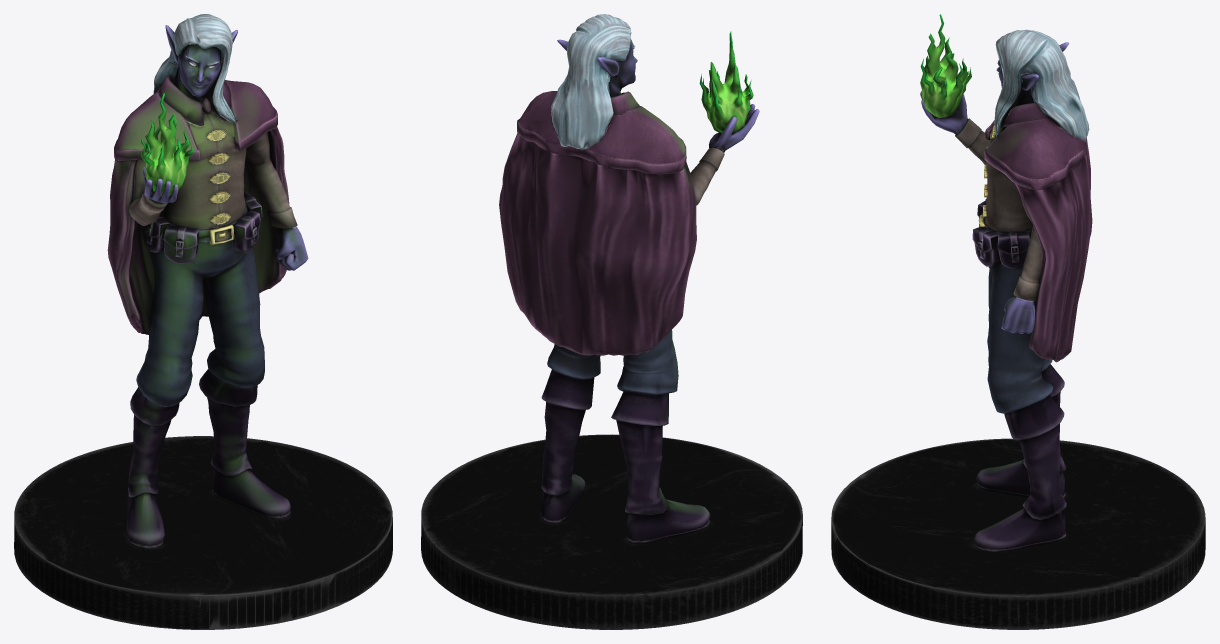
Rendered from MZ4250 - Drow Sorcerer.glb.
3 renders of one model, left to right at view 1: azimuth 30°, elevation 25°; view 2: azimuth 150°, elevation 25°; view 3: azimuth 270°, elevation 25°, orthographic. The views are drawn at different scales.
Visible parts, largest first — view 1: body_low.001, base_low.001, pouches_low.001, fire_low.001, buckles_low.001; view 2: body_low.001, base_low.001, fire_low.001; view 3: base_low.001, body_low.001, fire_low.001, pouches_low.001.
Boxes of the visible parts, x1,y1,x2,y2 form: body_low.001: (107, 14, 308, 548); base_low.001: (14, 436, 392, 629); pouches_low.001: (143, 191, 262, 263); fire_low.001: (141, 93, 192, 196); buckles_low.001: (206, 129, 230, 224); body_low.001: (499, 14, 759, 544); base_low.001: (421, 434, 802, 629); fire_low.001: (699, 31, 753, 133); base_low.001: (831, 438, 1205, 629); body_low.001: (920, 29, 1092, 552); fire_low.001: (920, 14, 971, 117); pouches_low.001: (972, 198, 1030, 269).
Size of the model in its own units: 1.5 by 2.3 by 1.5.
1 material, 1 textured.
